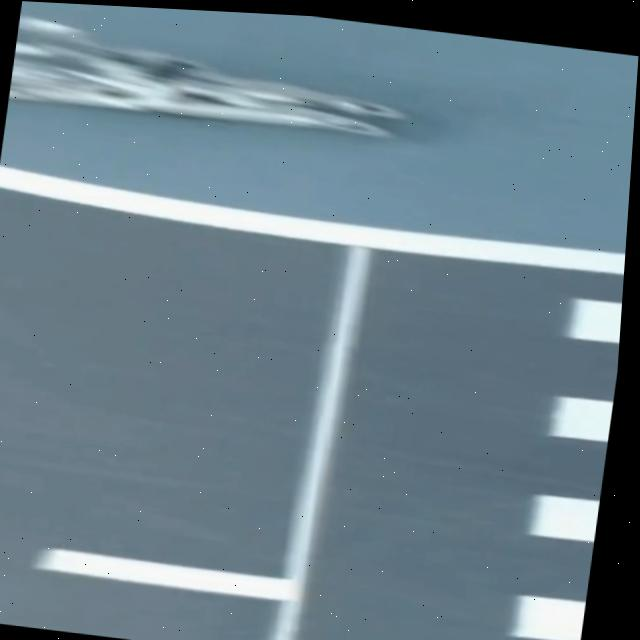center: (34, 547, 296, 598)
left: (0, 163, 625, 273)
